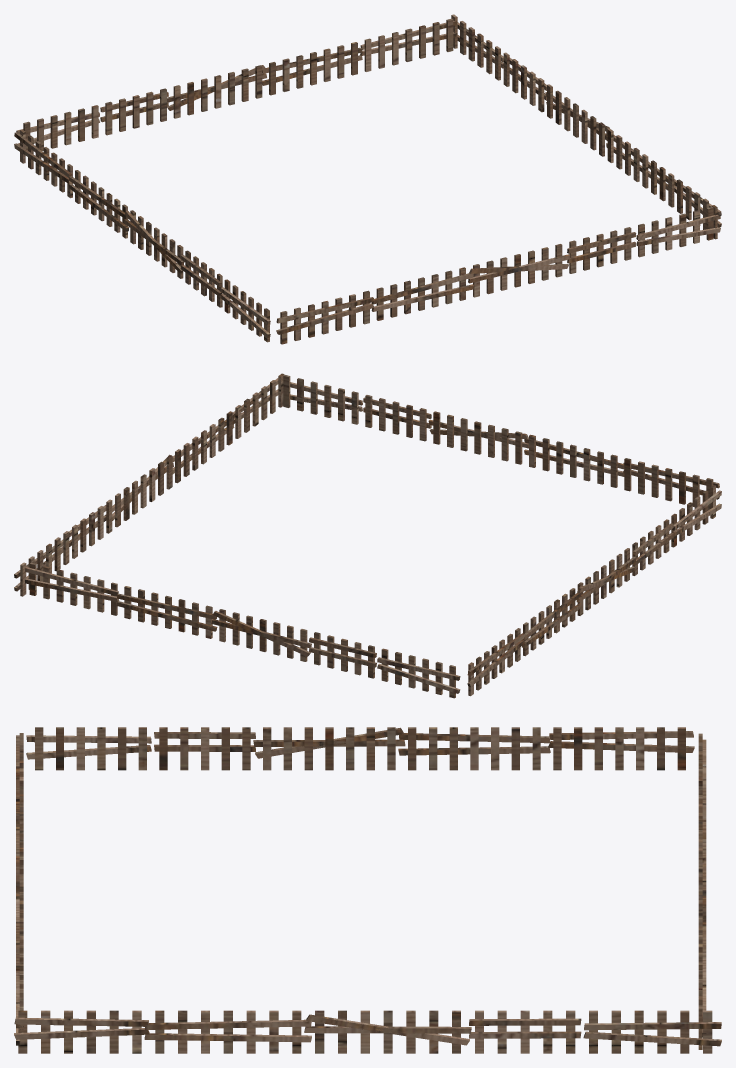
The model's file is Fence_Data.obj.
The picture shows the model from 3 angles, top to bottom: view 1: azimuth 30°, elevation 25°; view 2: azimuth 150°, elevation 25°; view 3: azimuth 270°, elevation 25°; orthographic projection. The views are drawn at different scales.
Visible parts, largest first — view 1: 立方体; view 2: 立方体; view 3: 立方体.
Boxes of the visible parts, x1=… form: 立方体: x1=14, y1=14, x2=721, y2=344; 立方体: x1=14, y1=373, x2=721, y2=698; 立方体: x1=14, y1=727, x2=721, y2=1053.
Bounding box in the file's own units: 10.93 × 0.7281 × 11.34.
1 material, 1 textured.
